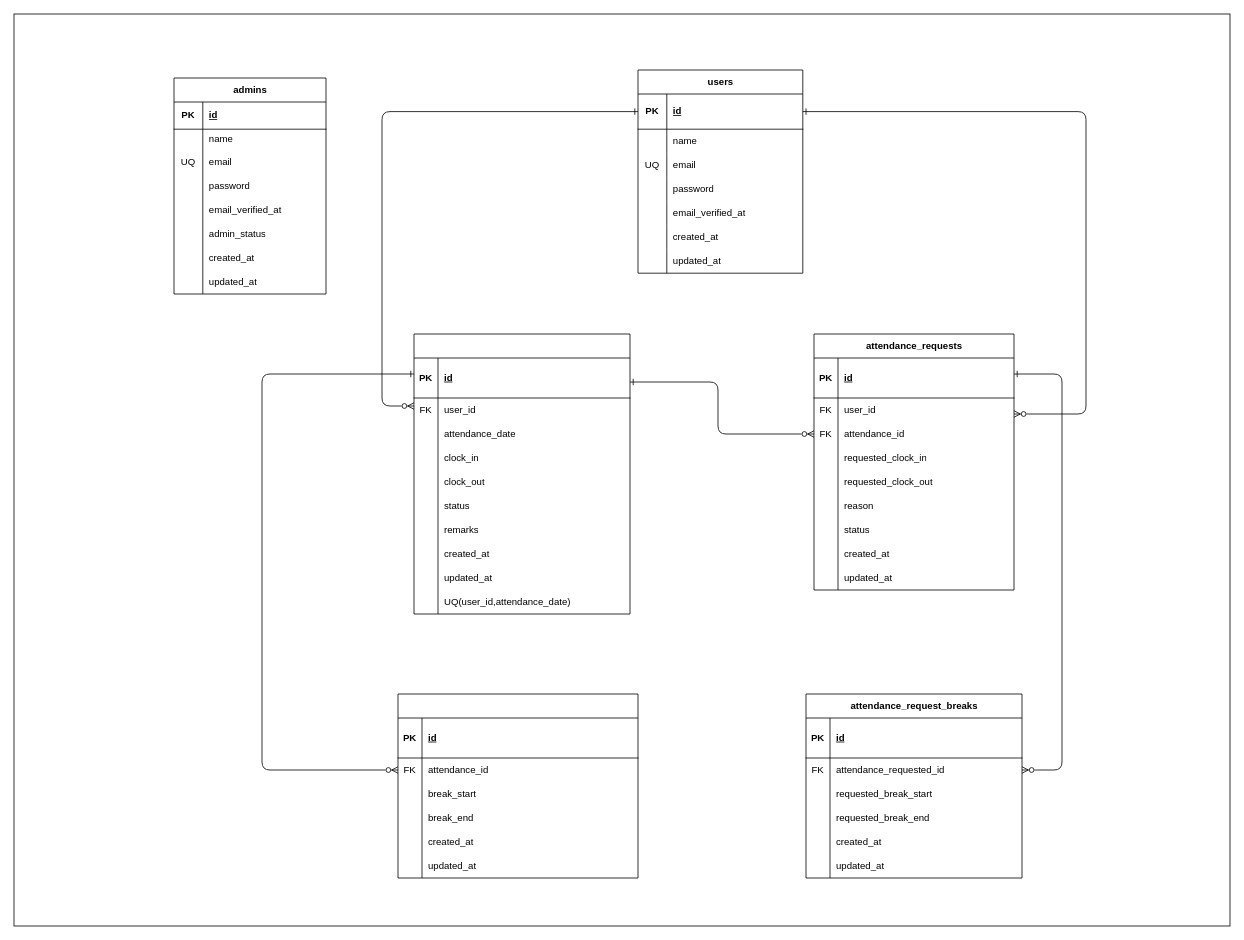
This 1244x940 diagram has some shape labels left out. Here are the shapes that lost their labels. From the top down, the box of each, then its label:
(413, 333, 630, 614): attendances
(397, 693, 638, 878): break_times
